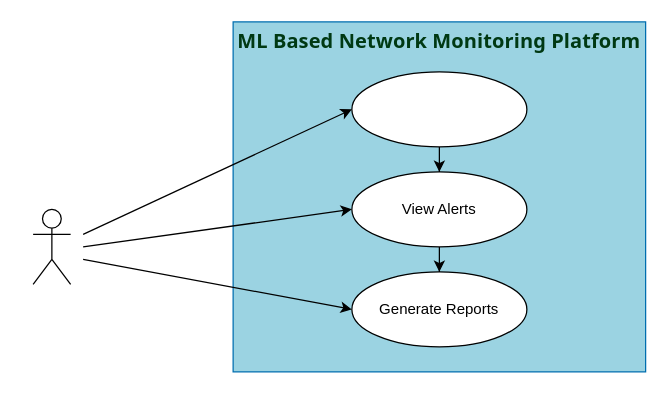
Some shapes in this 668 by 404 pixel diagram are drawn without their labels. Each missing label, with the centre of its shape:
Observer: pixel 51 246
View Dashboard: pixel 439 109
